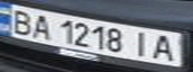1: (51, 16, 75, 45), (87, 22, 109, 51)
2: (69, 19, 90, 48)
8: (106, 25, 130, 54)
A: (148, 32, 181, 62), (27, 11, 57, 40)
B: (6, 7, 36, 36)
I: (127, 29, 157, 57)
